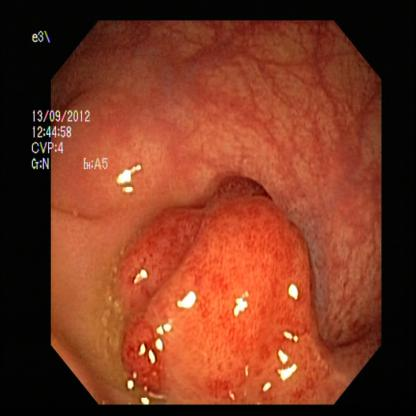Labels: (29, 30, 108, 173)
Polyps: (137, 177, 317, 393)
